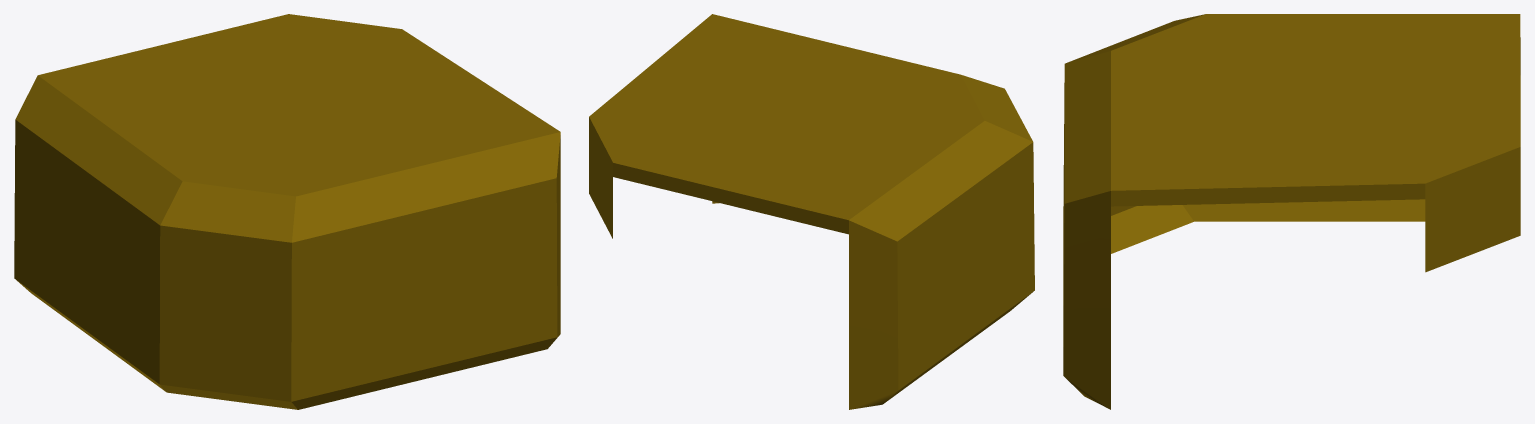
The model's file is mesh_BuildingA_TrimCornerCapRoof_v2.fbx.
3 views of the same model, side by side, from view 1: azimuth 30°, elevation 25°; view 2: azimuth 150°, elevation 25°; view 3: azimuth 270°, elevation 25° (orthographic). The views are drawn at different scales.
Visible parts, largest first — view 1: mesh_BuildingA_TrimCornerCapRoof; view 2: mesh_BuildingA_TrimCornerCapRoof; view 3: mesh_BuildingA_TrimCornerCapRoof.
Boxes of the visible parts, box(x1,y1,x2,y2) form: mesh_BuildingA_TrimCornerCapRoof: box(14, 14, 560, 409); mesh_BuildingA_TrimCornerCapRoof: box(589, 14, 1034, 409); mesh_BuildingA_TrimCornerCapRoof: box(1063, 14, 1520, 409).
Bounding box in the file's own units: 41 × 21.27 × 40.23.
